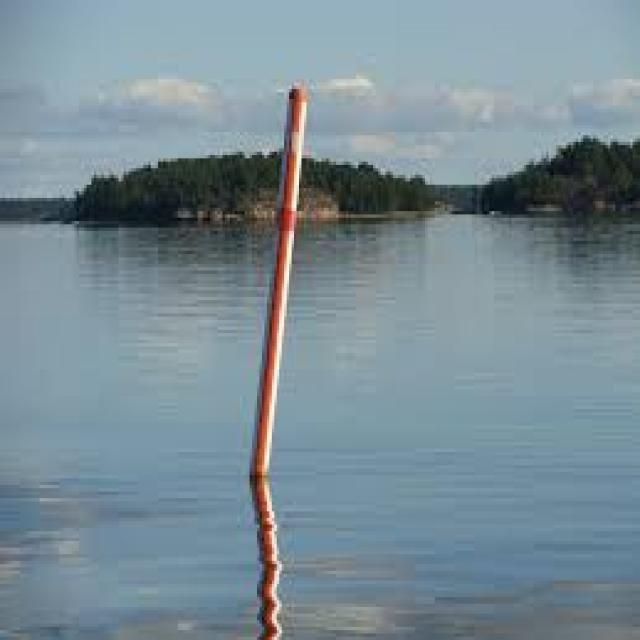buoy: (225, 61, 337, 493)
